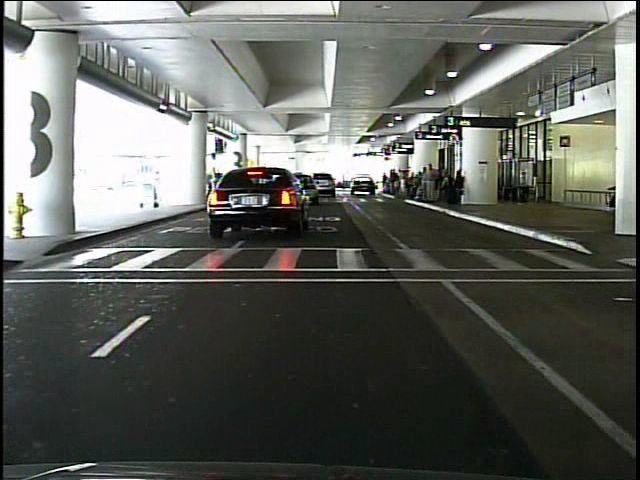person: (422, 159, 442, 208)
